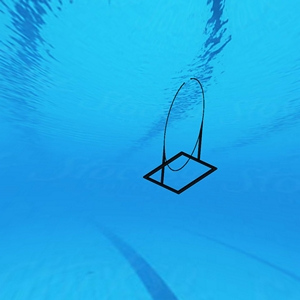circle: (141, 78, 219, 196)
